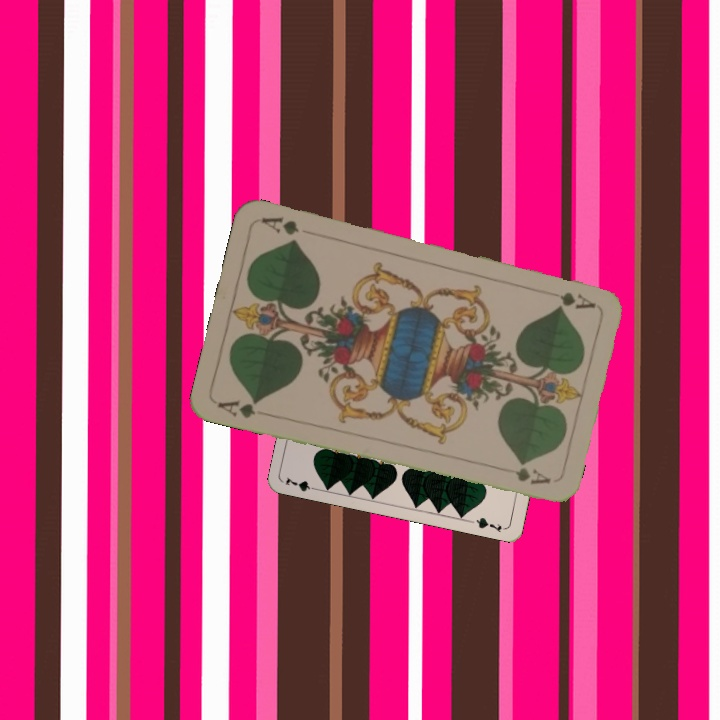G7: (282, 474, 322, 494)
GA: (213, 395, 262, 422), (556, 288, 598, 312)
